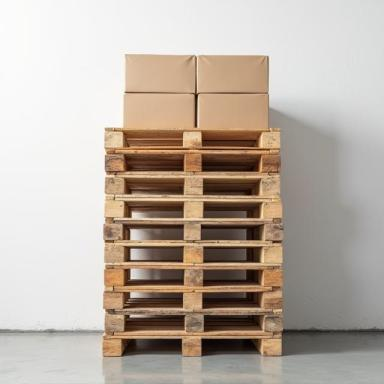pallet: (104, 150, 281, 175), (104, 174, 281, 199), (104, 312, 283, 336), (103, 288, 282, 312), (104, 198, 284, 221), (103, 220, 283, 243), (104, 243, 284, 266), (104, 266, 283, 289), (104, 127, 281, 150), (102, 335, 282, 357), (124, 154, 184, 174), (202, 154, 261, 172), (122, 131, 183, 148), (202, 130, 262, 147), (125, 248, 183, 262), (127, 269, 183, 283), (130, 228, 184, 240), (204, 248, 247, 261), (201, 228, 246, 240), (128, 292, 183, 301), (203, 270, 246, 280), (123, 211, 183, 218), (203, 210, 247, 218), (131, 190, 183, 195), (204, 191, 251, 195), (129, 315, 184, 318)
